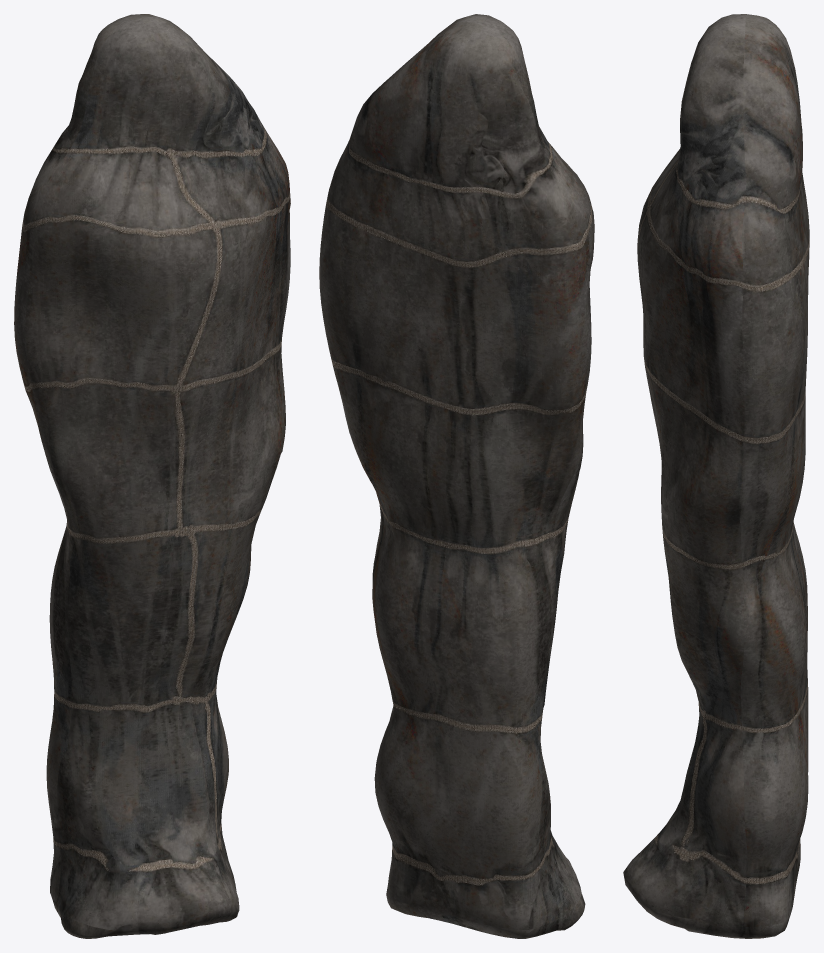
3 renders of one model, left to right at view 1: azimuth 30°, elevation 25°; view 2: azimuth 150°, elevation 25°; view 3: azimuth 270°, elevation 25°, orthographic.
Parts seen in each view (by area): view 1: LP; view 2: LP; view 3: LP.
Part boxes in pixels (<box>): LP: <box>14,14,290,938</box>; LP: <box>319,14,594,938</box>; LP: <box>623,14,809,938</box>.
Bounding box in the file's own units: 0.6185 × 2 × 0.3801.
Materials: 1 (1 with a texture image).
